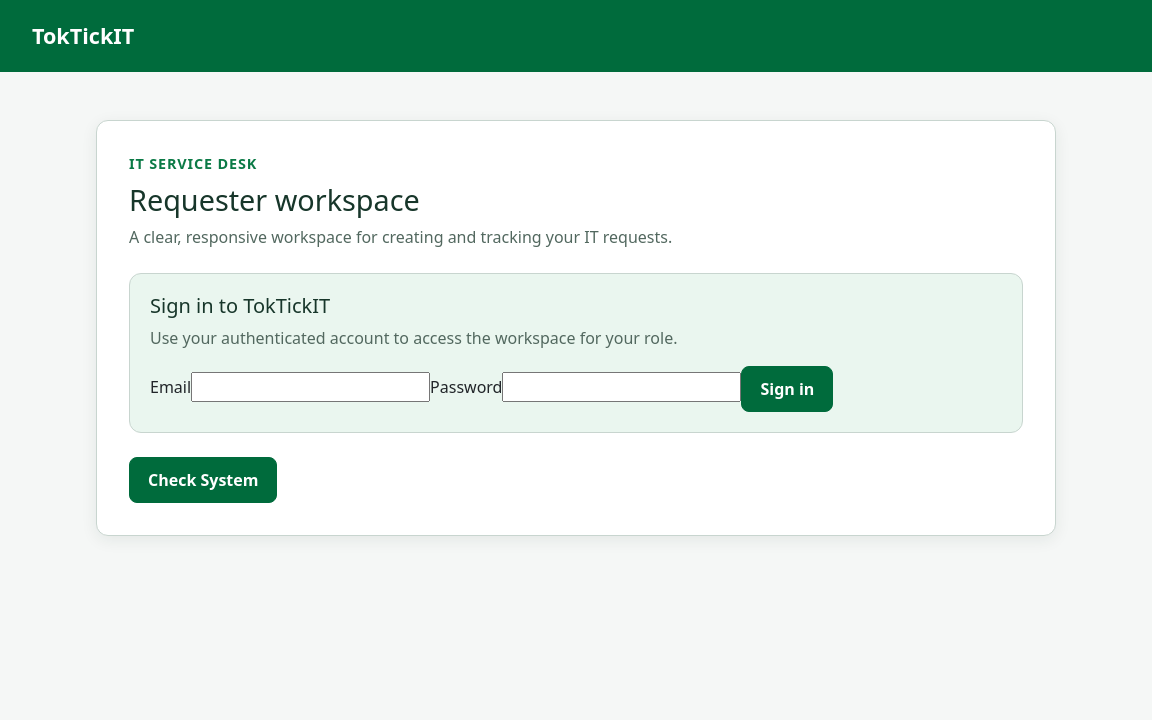
Test: App › shows an Offline error message when the API is unavailable
Click the button "Check System".
click(203, 480)  # box [129,457,278,503]
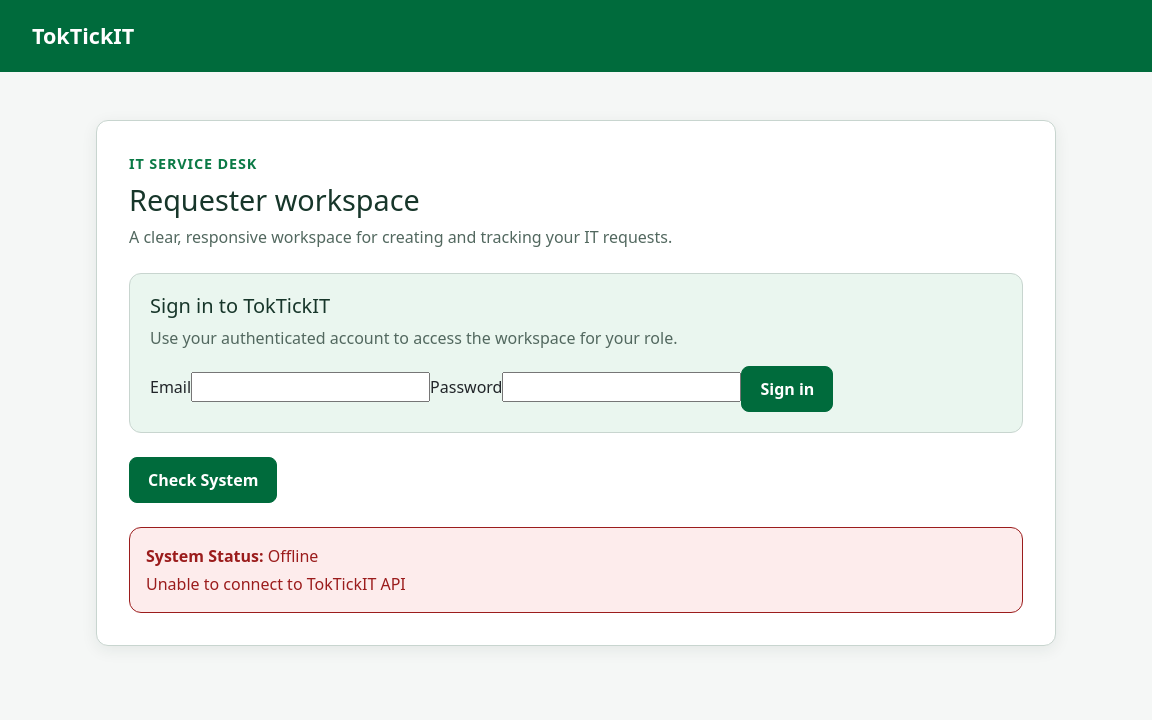
Now the text "System Status:" is shown, box [146,545,264,567]
Now the text "Offline" is shown, box [264,545,318,567]
Now the text "Unable to connect to TokTickIT API" is shown, box [146,573,406,595]
